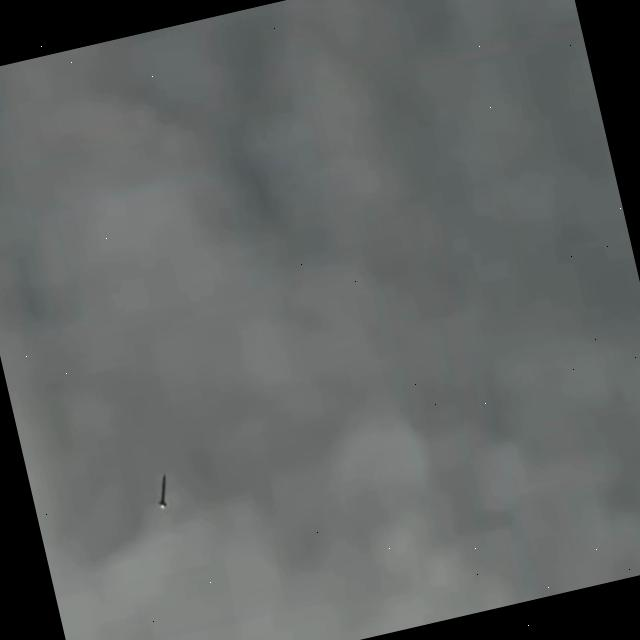rocket: (156, 474, 166, 510)
